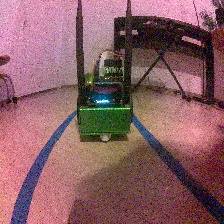rob: (75, 56, 134, 142)
